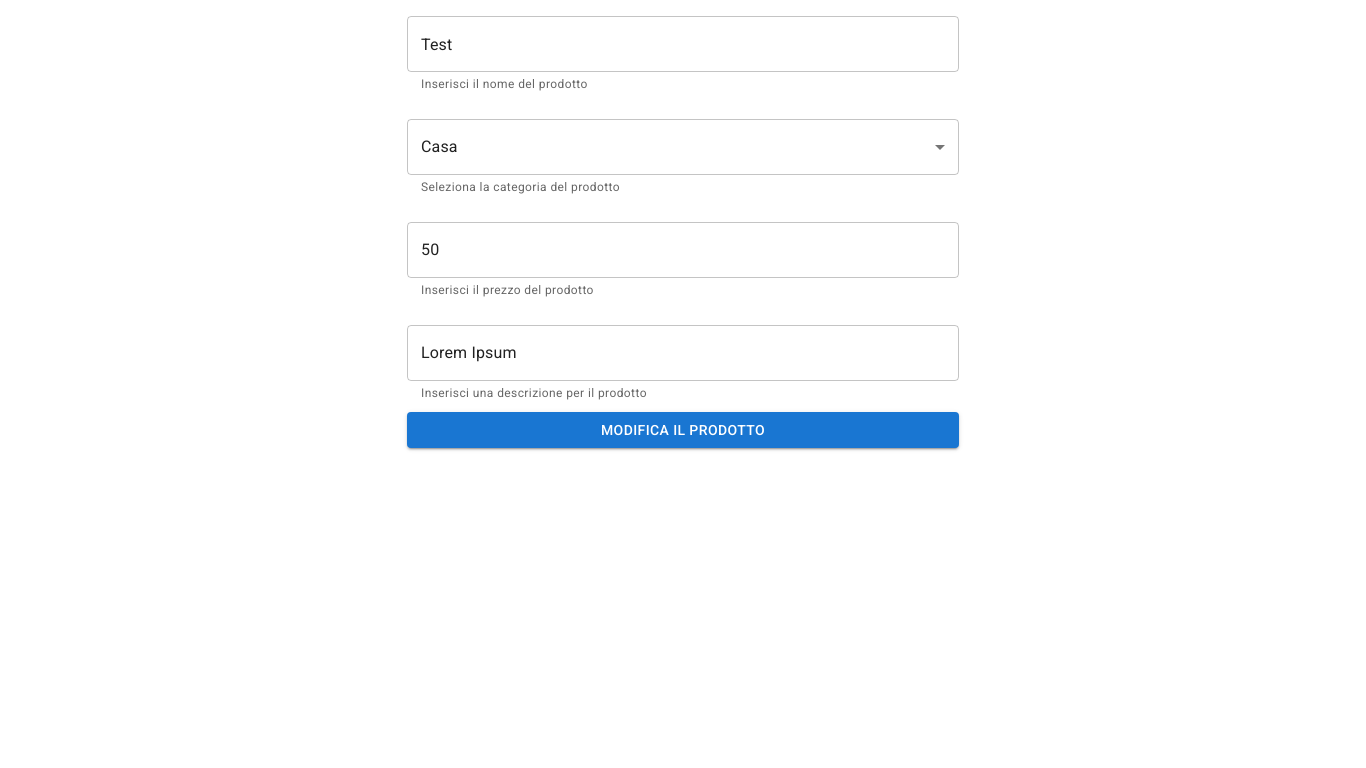
<ProductEdit> › renders confirm alert
Click the button "Modifica il prodotto": point(683, 430) 407,412 -> 959,448
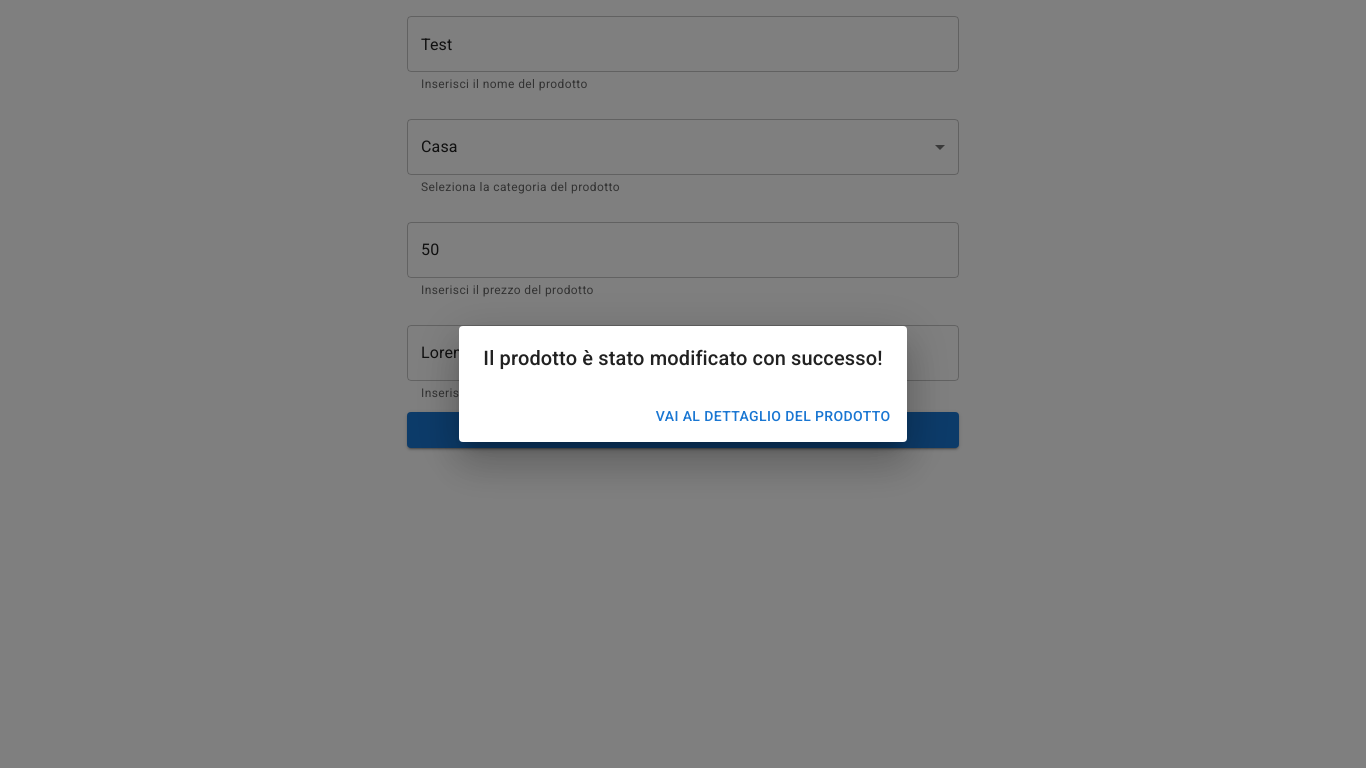
Result: the heading "Il prodotto è stato modificato con successo!" is shown at 483,346 -> 883,370
